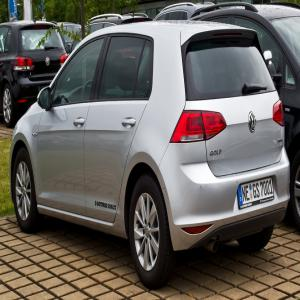Vehicle-registration-plate: (240, 172, 285, 216)
